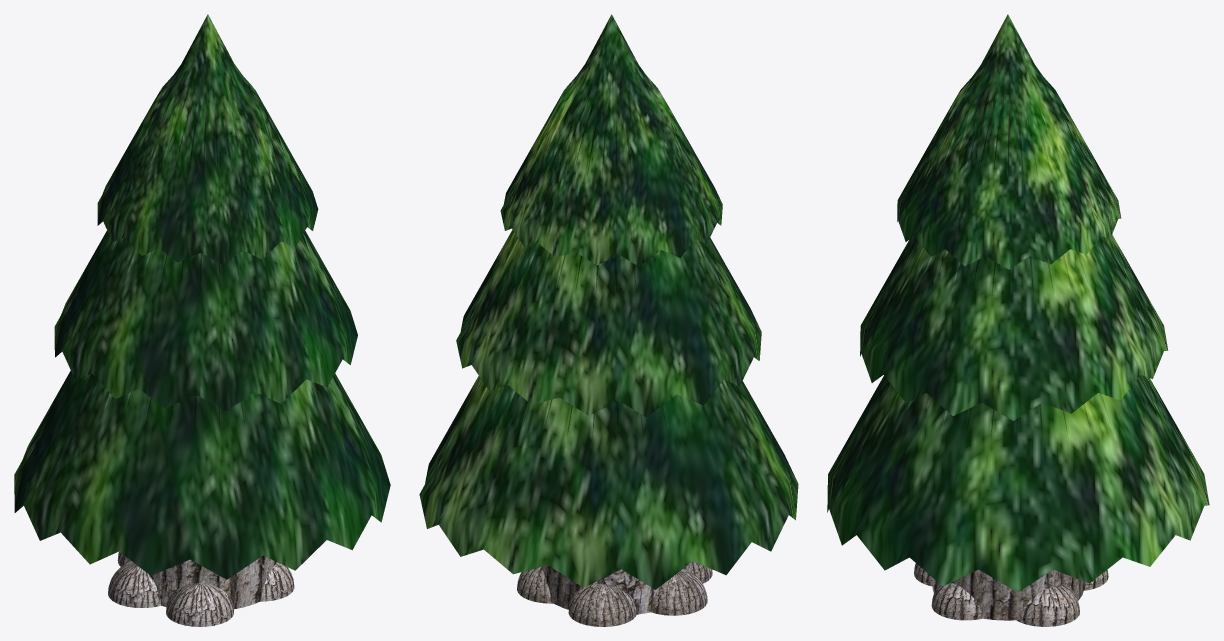
Rendered from Pinetree.glb.
3 renders of one model, left to right at view 1: azimuth 30°, elevation 25°; view 2: azimuth 150°, elevation 25°; view 3: azimuth 270°, elevation 25°, orthographic.
Visible parts, largest first — view 1: pine base, pine.001, pine, roots, tree stump; view 2: pine base, pine.001, pine, roots, tree stump; view 3: pine base, pine.001, pine, roots, tree stump.
Boxes of the visible parts, left/top/right/bottom form: pine base: left=14, top=370, right=390, bottom=579; pine.001: left=54, top=230, right=357, bottom=410; pine: left=97, top=14, right=318, bottom=264; roots: left=108, top=552, right=294, bottom=626; tree stump: left=131, top=555, right=276, bottom=609; pine base: left=419, top=376, right=798, bottom=589; pine.001: left=456, top=230, right=761, bottom=417; pine: left=500, top=14, right=722, bottom=266; roots: left=517, top=561, right=712, bottom=626; tree stump: left=541, top=565, right=688, bottom=614; pine base: left=827, top=375, right=1209, bottom=592; pine.001: left=860, top=234, right=1168, bottom=420; pine: left=897, top=14, right=1121, bottom=269; roots: left=914, top=563, right=1108, bottom=626; tree stump: left=932, top=569, right=1083, bottom=620.
Size of the model in its own units: 3.39 by 5.67 by 3.4.
5 materials, 5 textured.
